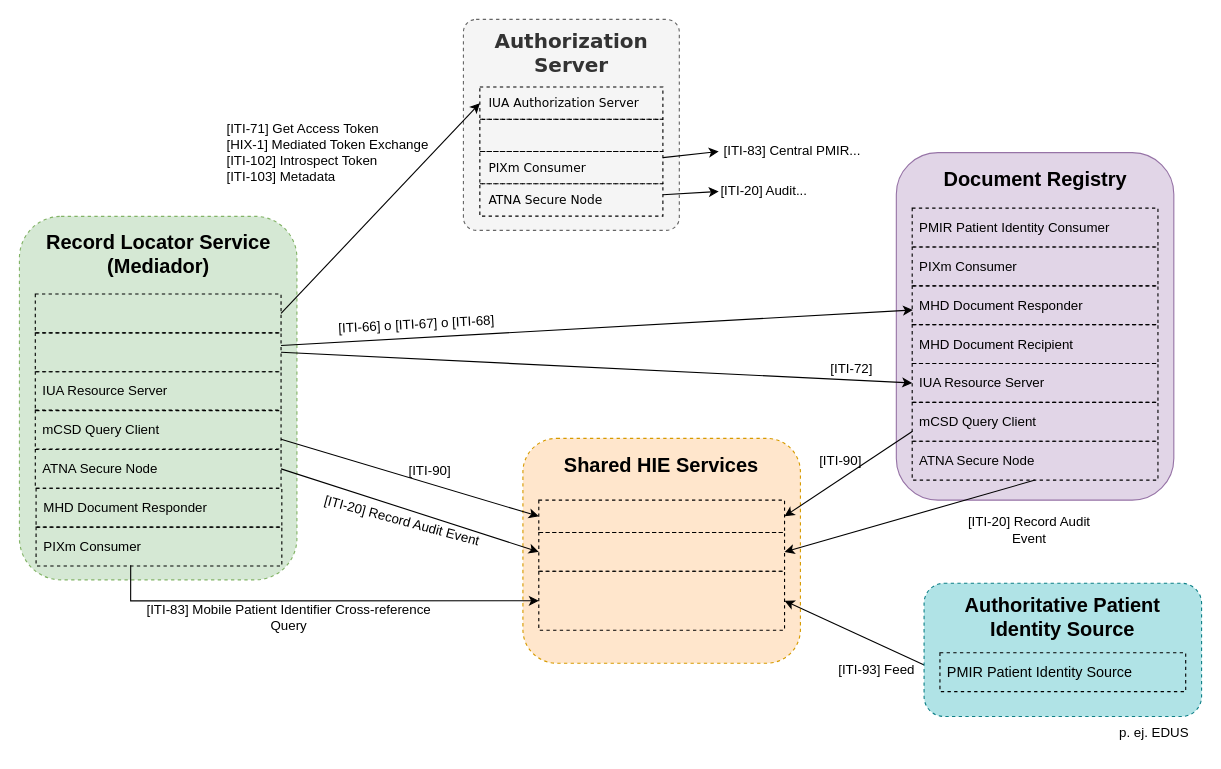
Image size: 1221x769. Some labels were removed from this diagram. The shapes that lost their labels are listed below. From the top down, each one's centre as x and y in pixels, then its label:
At pixel 571 135: "OpenID Provider".
At pixel 157 313: "IUA Authorization Client".
At pixel 157 352: "MHD Document Consumer".
At pixel 661 515: "mCSD Directory".
At pixel 661 551: "ATNA Audit Record Repository".
At pixel 661 600: "Master Patient Index (PMIR, PIXm, PDQm)".
